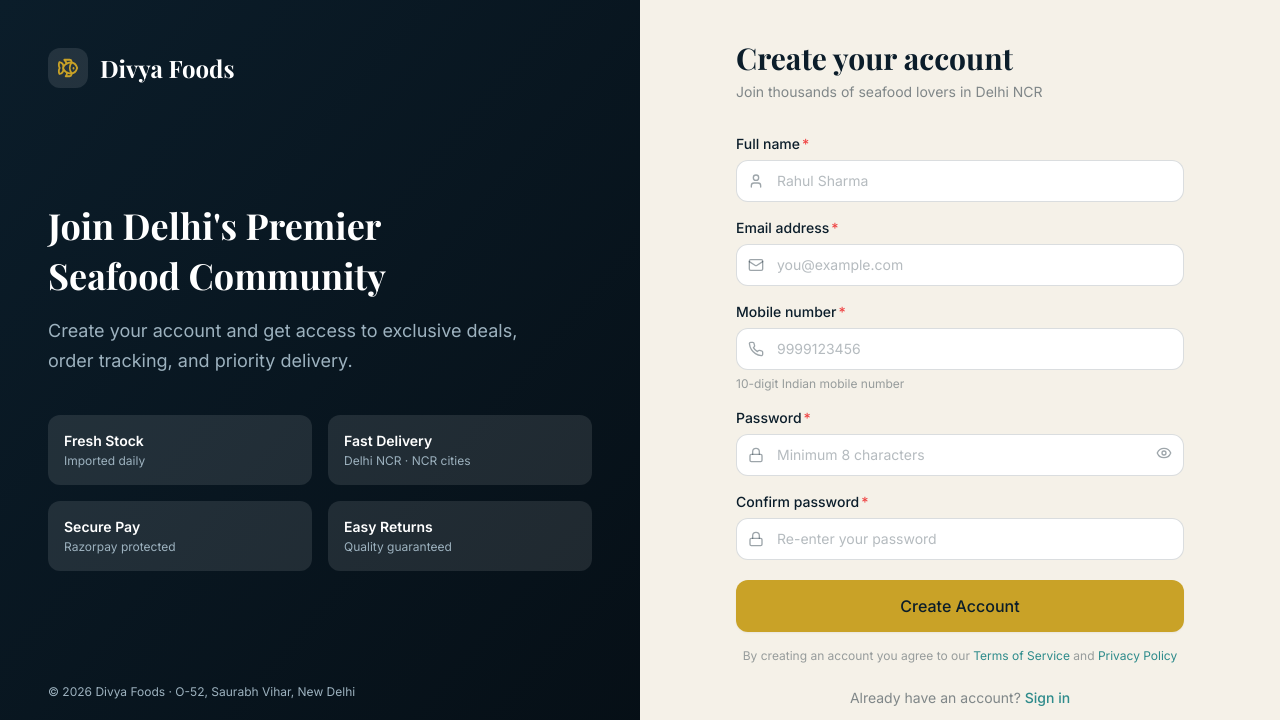
Test: RegisterPage › rejects a password shorter than 8 characters
Type "short" into the password field labelled "Password*" at {"x": 960, "y": 455}, box [736,434,1184,476]
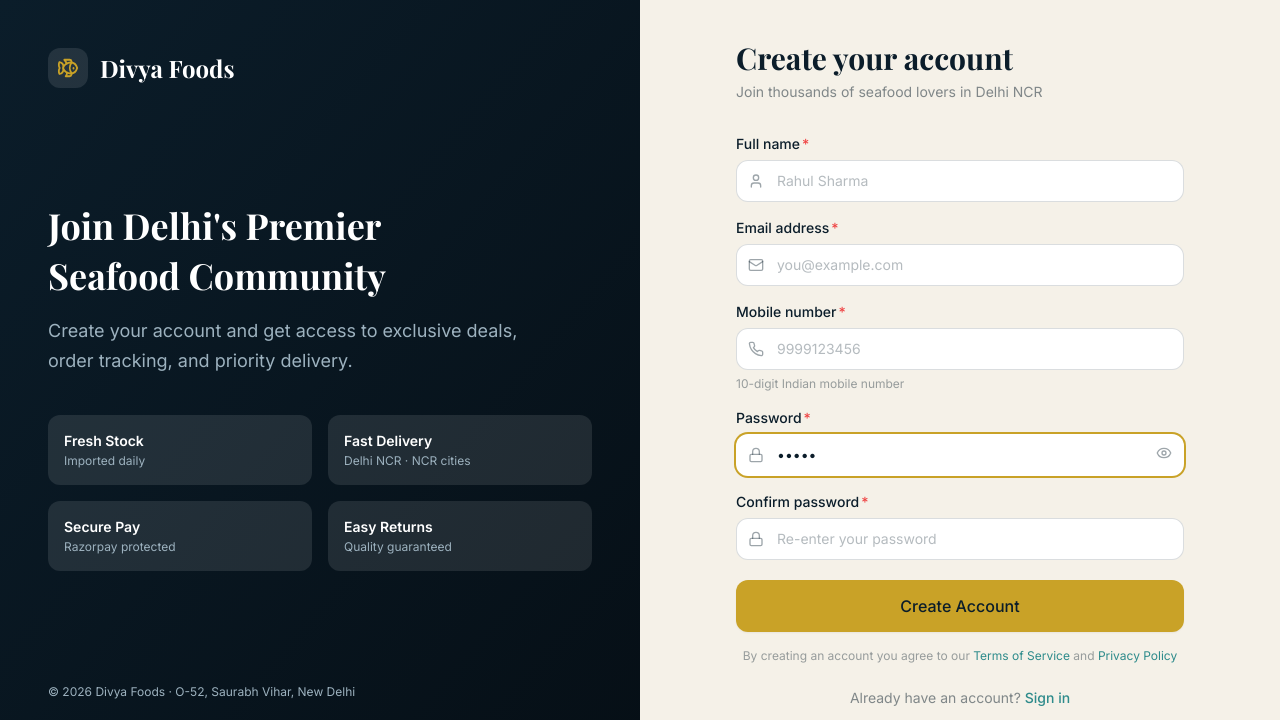
Click the button "Create Account" at {"x": 960, "y": 606}, box [736,580,1184,632]
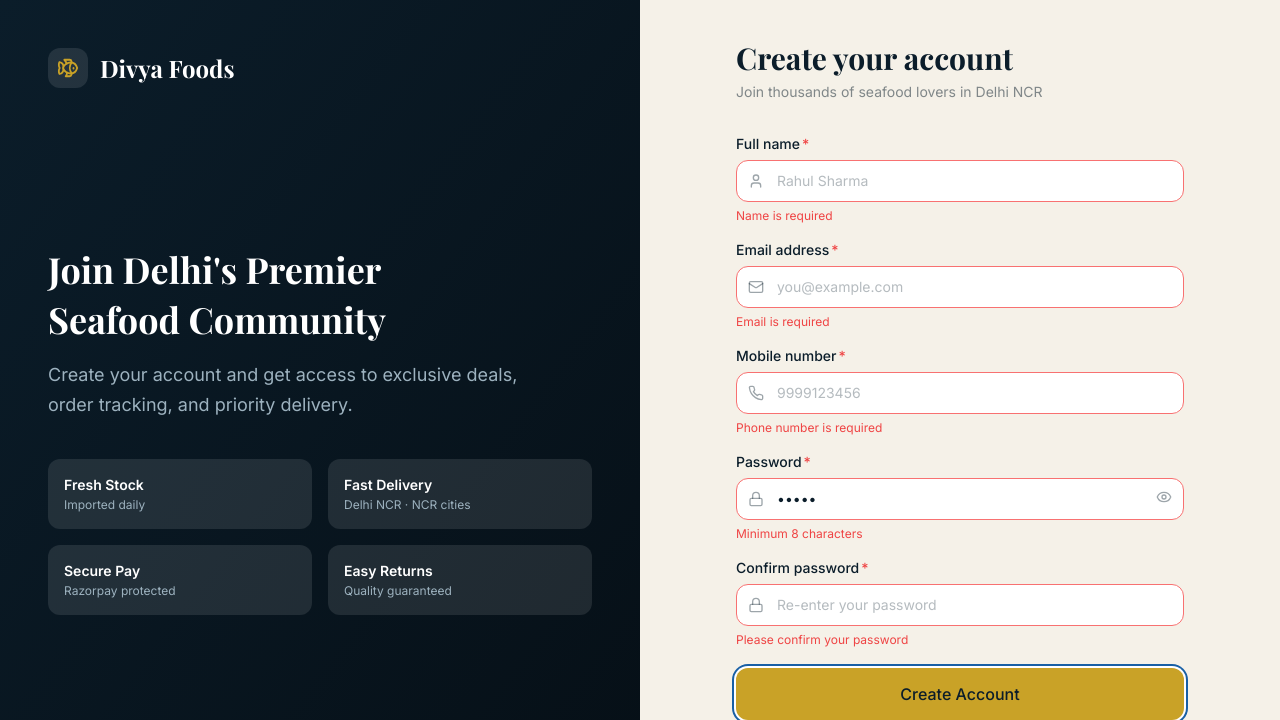
Result: the text "Minimum 8 characters" is shown at [736,526,862,541]
